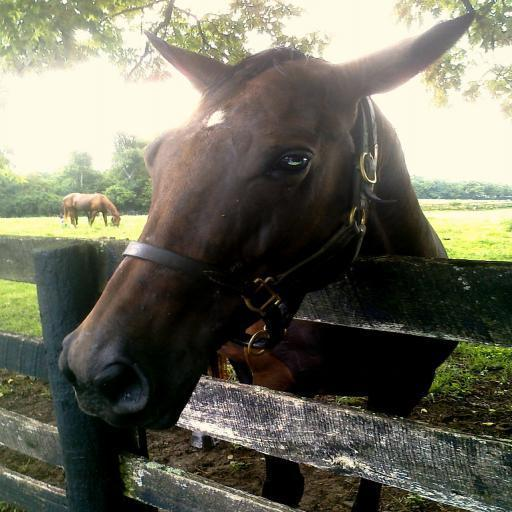horse: (55, 9, 477, 512), (63, 192, 125, 230)
